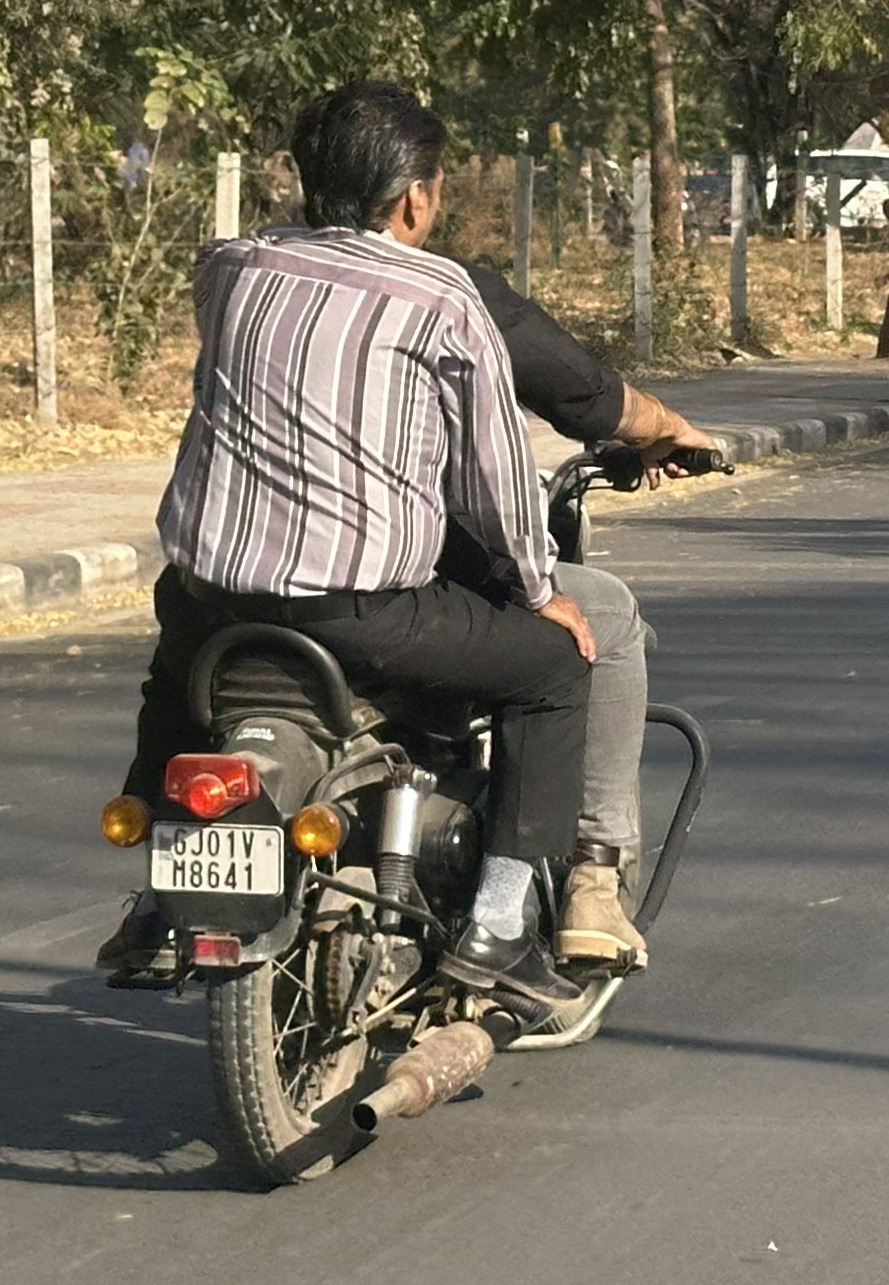BikeWithRider: (70, 61, 767, 1201)
NoHelmet: (270, 70, 460, 254)
